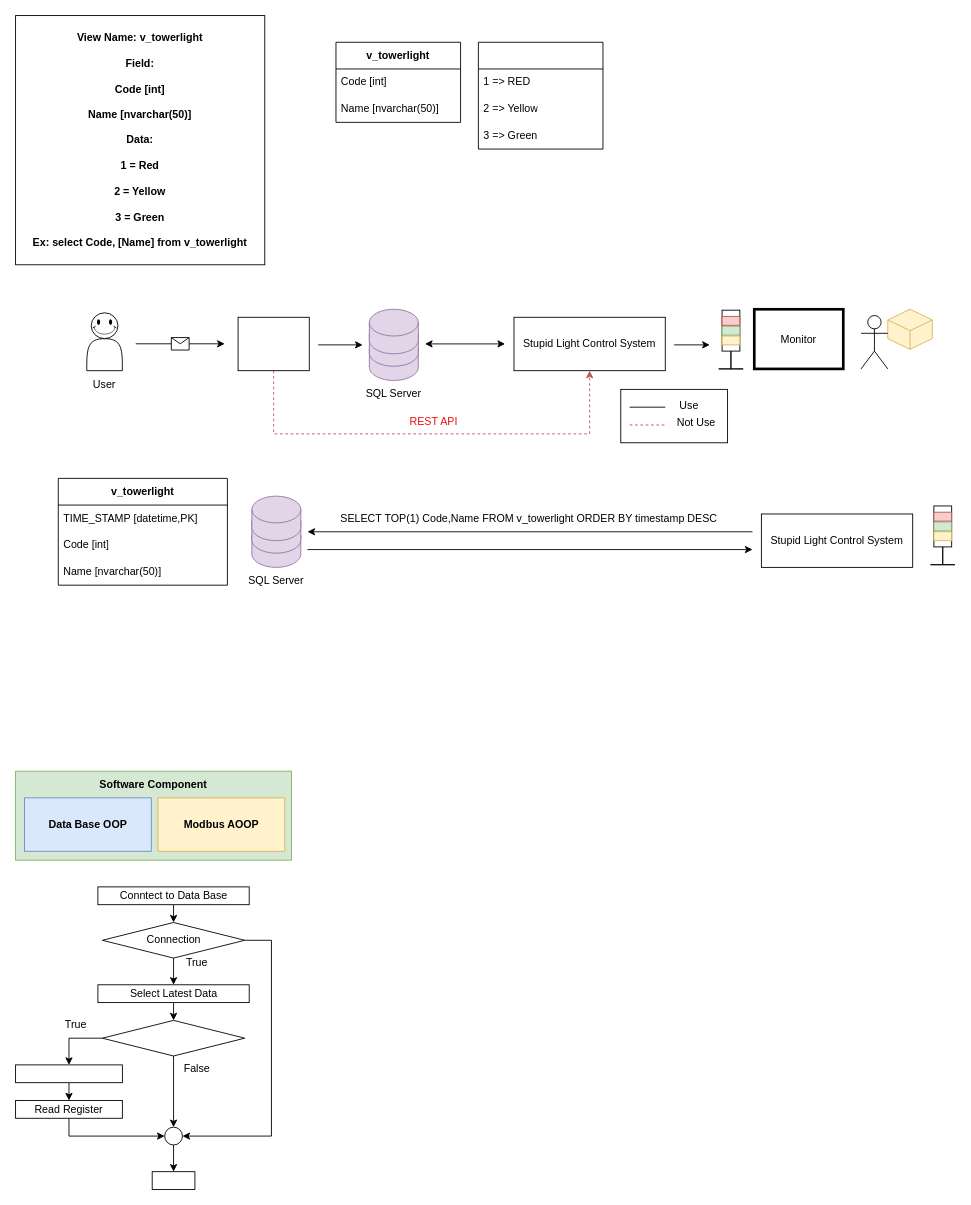
This 971x1205 diagram has some shape labels left out. The shapes that lost their labels are listed below. From the top down, each one's box as (x1, y1, x2, y2) in pixels, then its label:
(477, 41, 603, 149): Data
(237, 316, 309, 371): NETCUBE SYSTEM
(860, 315, 888, 369): Actor
(101, 1019, 245, 1056): Data Correction
(15, 1064, 122, 1083): Write Register
(151, 1171, 195, 1189): END
